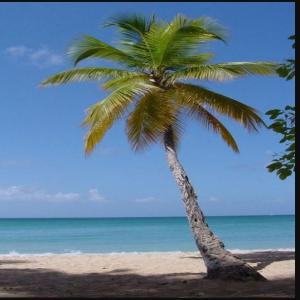palm tree: (37, 10, 284, 282)
